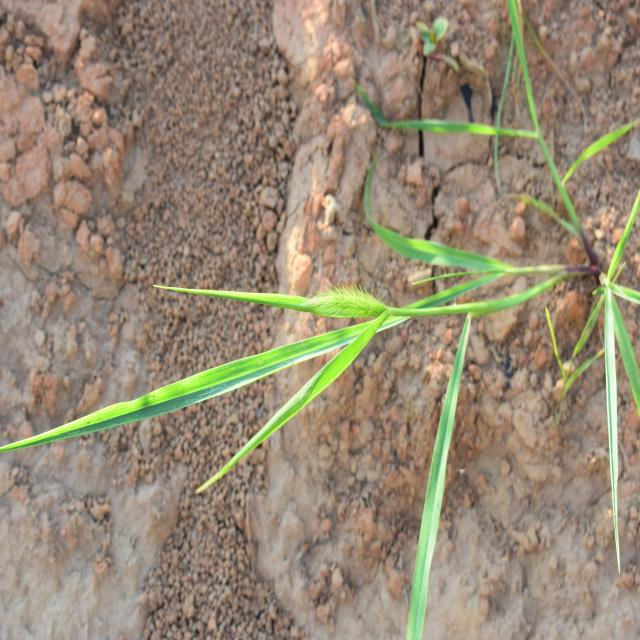green_foxtail: (114, 228, 496, 523)
